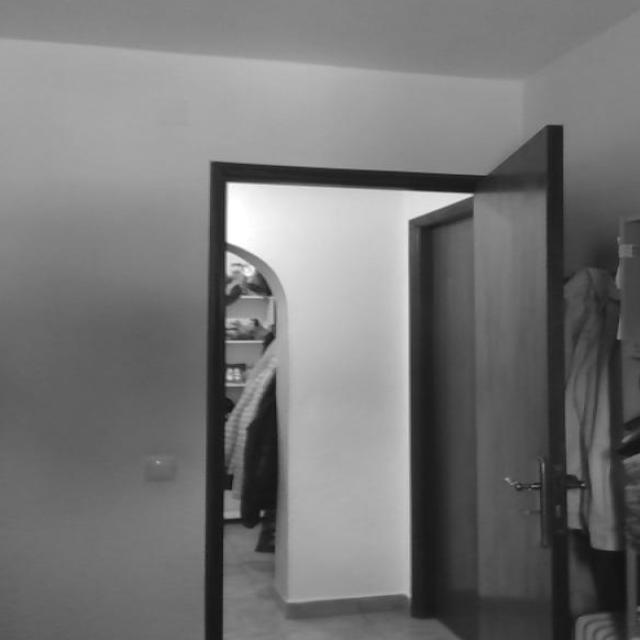door: (458, 109, 580, 640)
